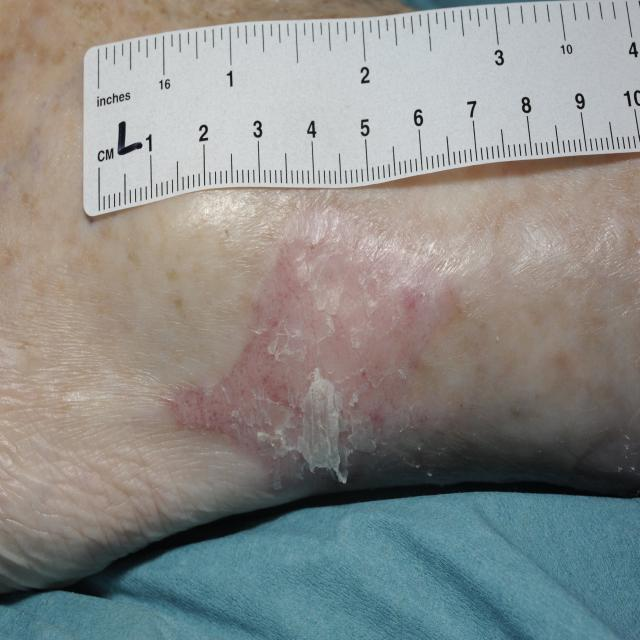wound: (184, 187, 639, 496)
